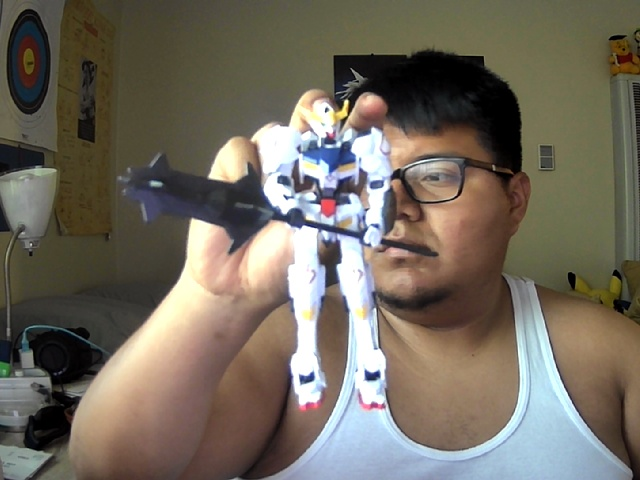Barbatos: (117, 99, 439, 411)
